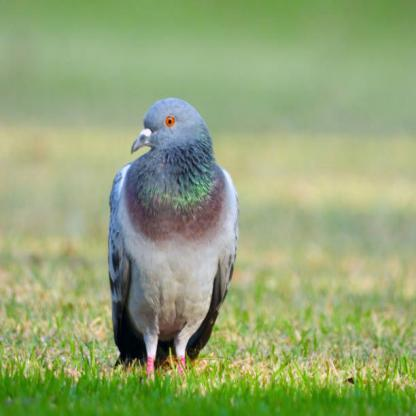Rock Pigeon: (101, 92, 242, 368)
